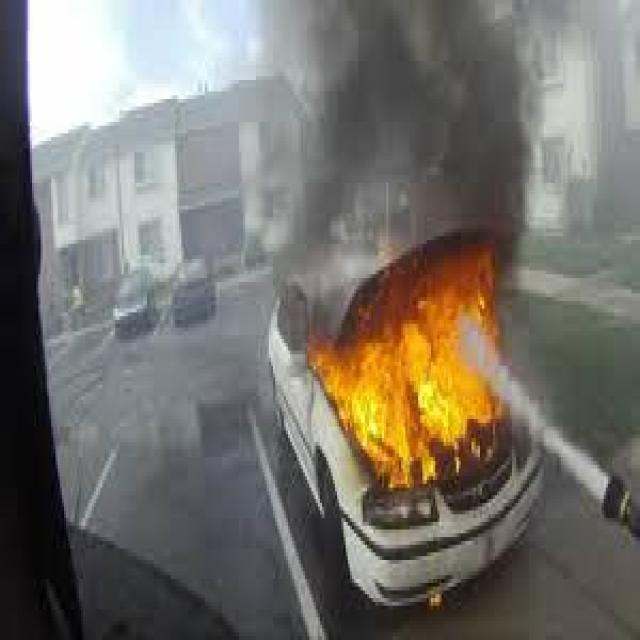fire: (343, 283, 540, 577)
smoke: (280, 8, 606, 258)
